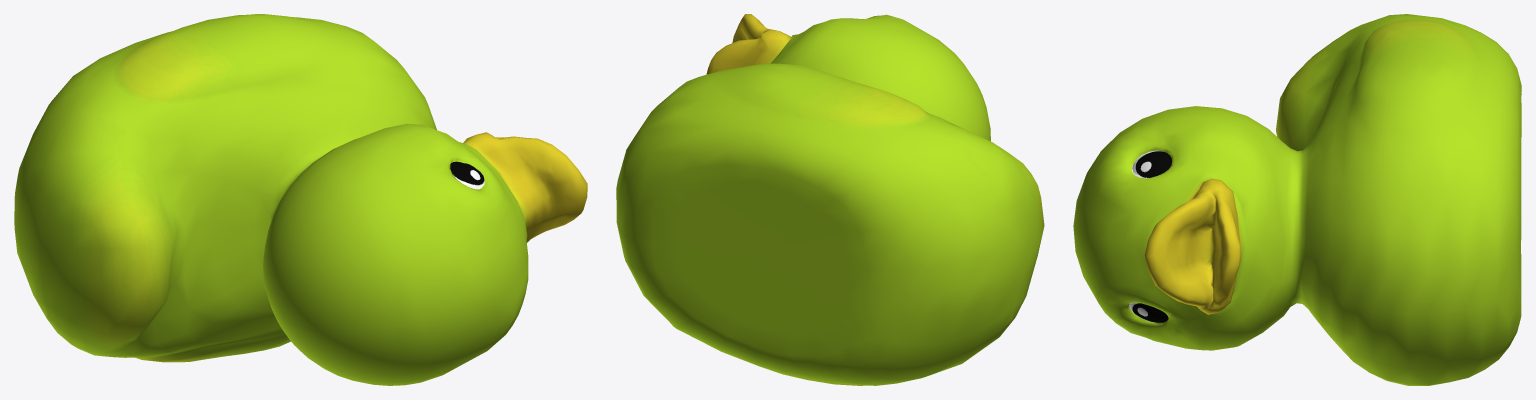
Rendered from duck-green.obj.
3 renders of one model, left to right at view 1: azimuth 30°, elevation 25°; view 2: azimuth 150°, elevation 25°; view 3: azimuth 270°, elevation 25°, orthographic. The views are drawn at different scales.
Bounding box in the file's own units: 2.23 × 1.55 × 2.08.
Materials: 1 (1 with a texture image).
